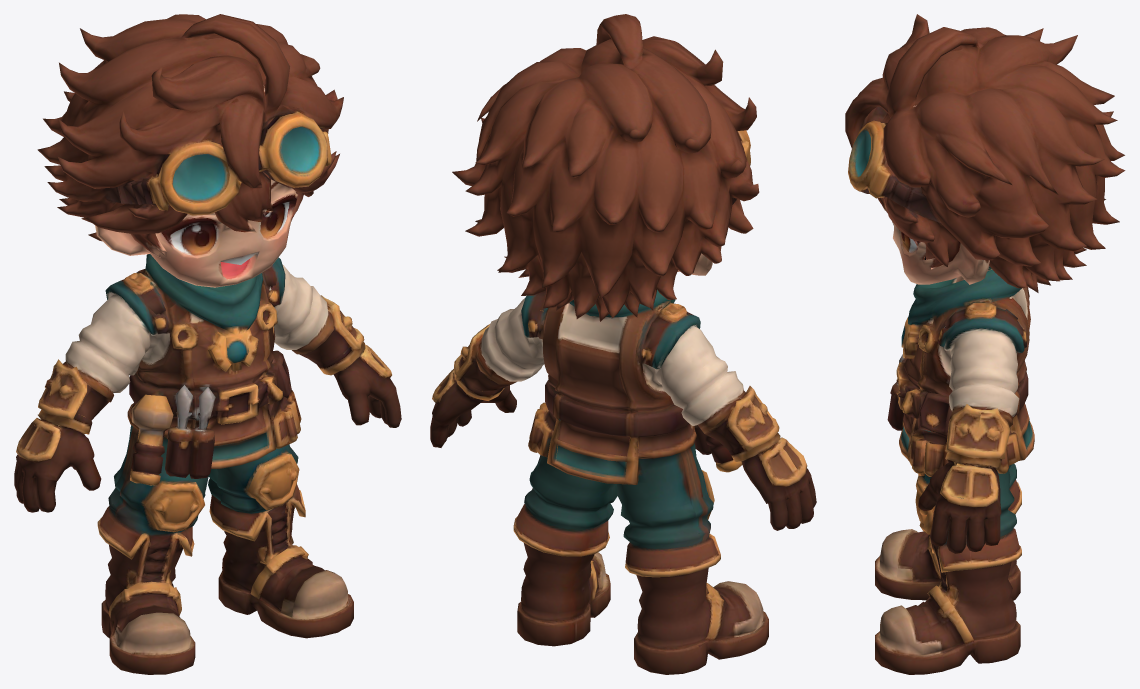
Rendered from Costume_NeutralWarriorM.glb.
The picture shows the model from 3 angles, left to right: view 1: azimuth 30°, elevation 25°; view 2: azimuth 150°, elevation 25°; view 3: azimuth 270°, elevation 25°; orthographic projection. The views are drawn at different scales.
Visible parts, largest first — view 1: Body, Head; view 2: Body, Head; view 3: Head, Body.
Part boxes in pixels (x1,y1,x2,y2): Body: (14, 258, 401, 674); Head: (37, 14, 343, 305); Body: (430, 296, 816, 674); Head: (452, 14, 759, 334); Head: (845, 14, 1125, 327); Body: (875, 287, 1034, 674).
Size of the model in its own units: 0.6294 by 0.9775 by 0.4189.
2 materials, 2 textured.
